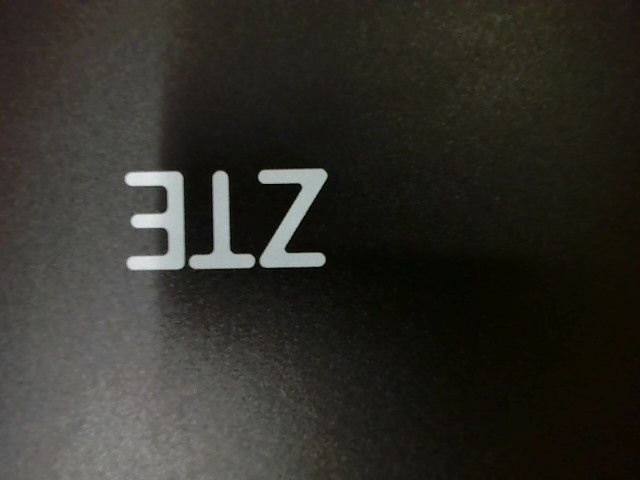AN_ZTE: (107, 137, 331, 289)
